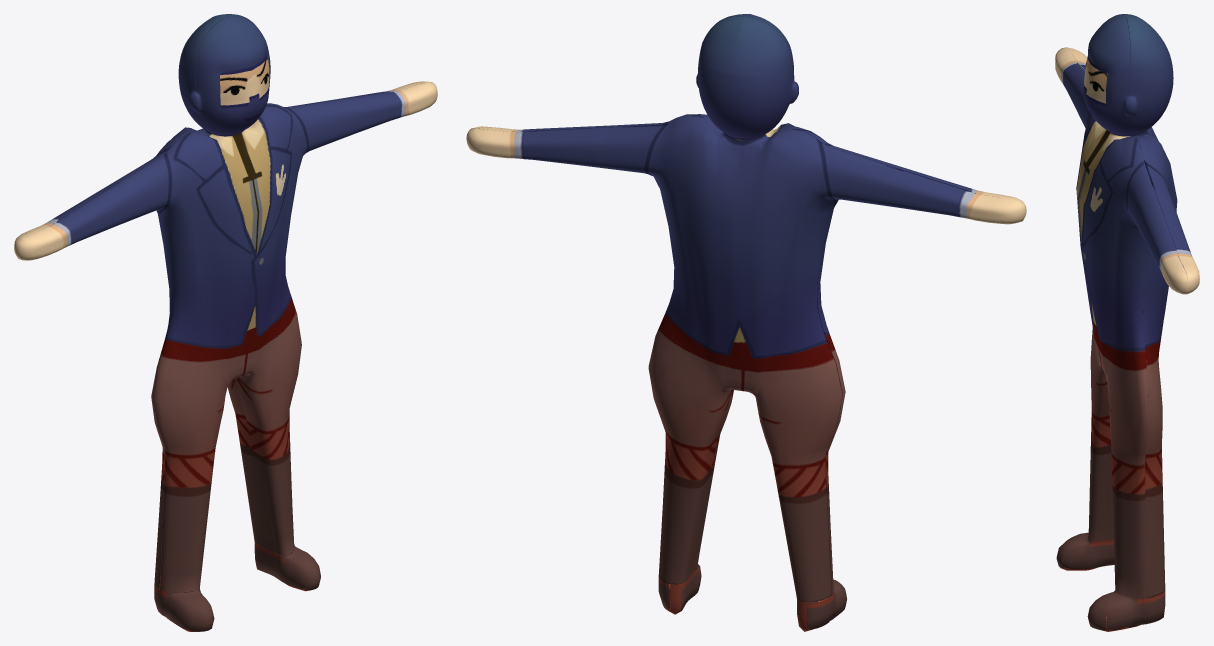
File: elConfundido.dae
The picture shows the model from 3 angles, left to right: view 1: azimuth 30°, elevation 25°; view 2: azimuth 150°, elevation 25°; view 3: azimuth 270°, elevation 25°; orthographic projection. The views are drawn at different scales.
Parts seen in each view (by area): view 1: Cube.003; view 2: Cube.003; view 3: Cube.003.
Boxes of the visible parts, bbox=[...] form: Cube.003: bbox=[14, 14, 437, 631]; Cube.003: bbox=[466, 14, 1026, 631]; Cube.003: bbox=[1055, 14, 1199, 631].
Bounding box in the file's own units: 8.29 × 2.18 × 9.55.
Materials: 1 (1 with a texture image).
